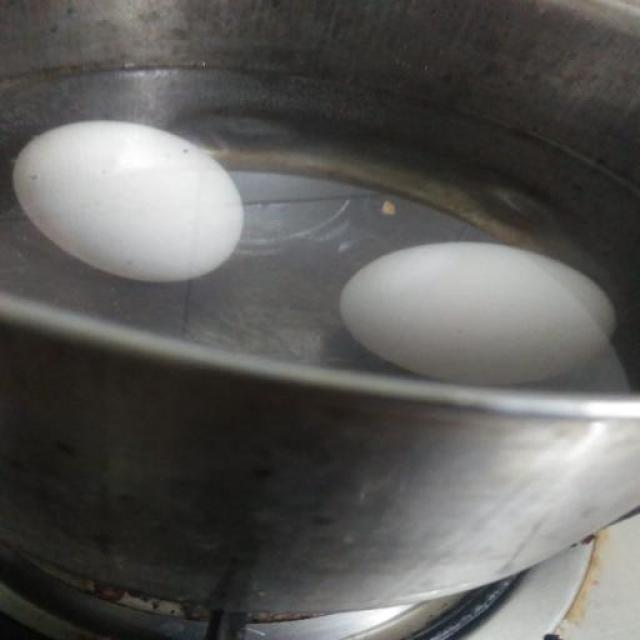telur: (337, 241, 615, 387), (14, 120, 245, 284)
